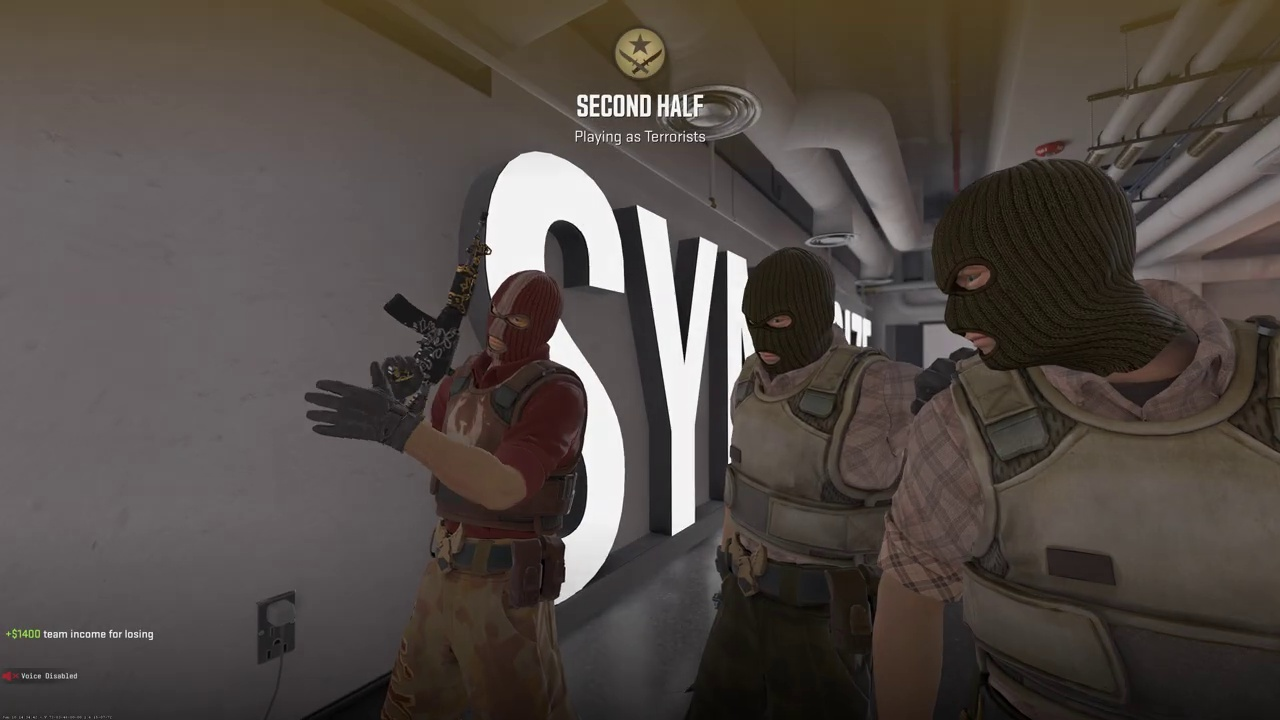Terrorist: (908, 164, 1280, 720), (689, 248, 925, 720), (385, 270, 588, 719)
